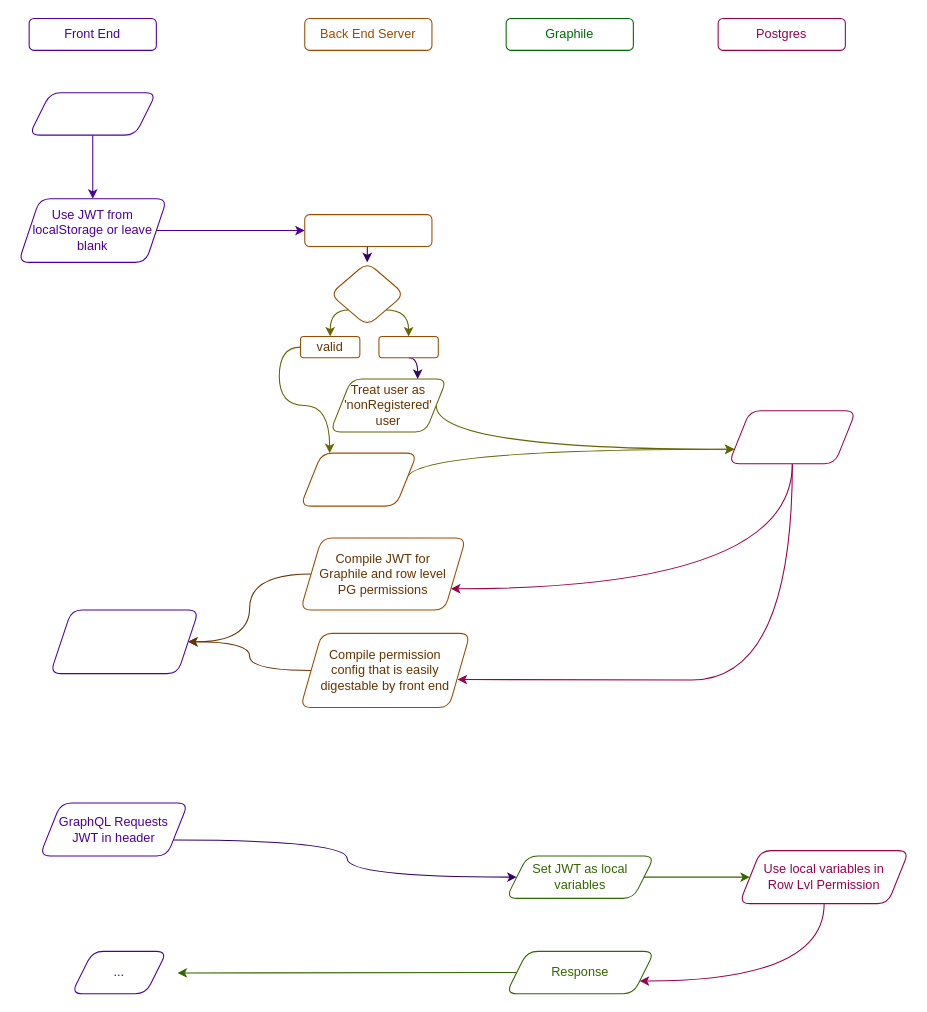
This 927x1012 diagram has some shape labels left out. The box of each missing label's shape, as (x1, y1, x2, y2) in pixels:
/userPermissions: (304, 214, 432, 246)
Get Permissions for user: (728, 410, 856, 464)
invalid: (378, 335, 438, 358)
Refresh Page: (28, 92, 156, 135)
Store JWT in localStorage and permission config in userContext: (49, 609, 199, 674)
Treat user as user from JWT: (299, 452, 417, 506)
Verify JWT: (329, 261, 404, 326)
